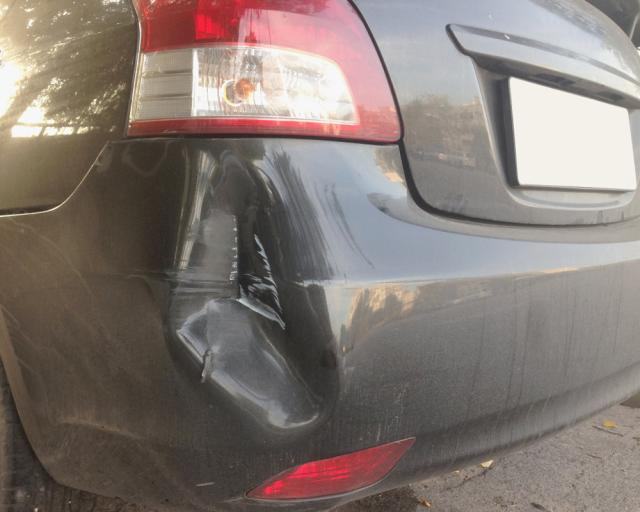dent: (171, 145, 344, 424)
